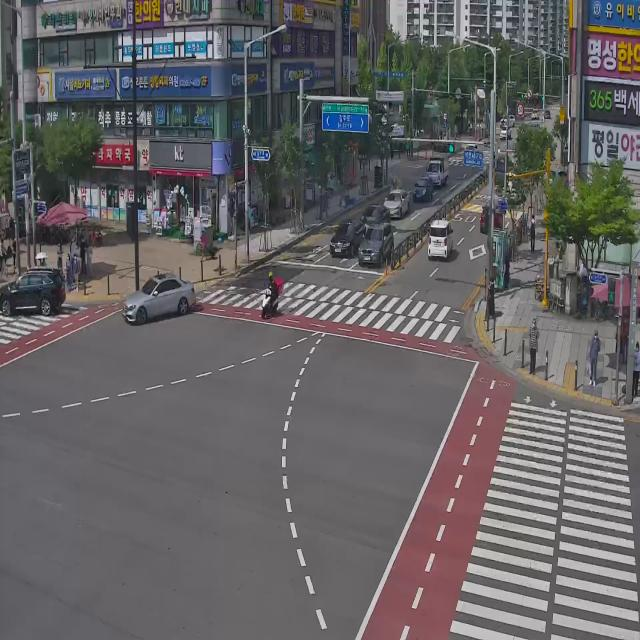Car: (122, 274, 195, 326), (0, 268, 66, 316), (358, 222, 394, 267), (330, 219, 366, 258), (428, 215, 455, 262), (380, 189, 411, 220), (362, 197, 392, 229), (413, 176, 433, 202)
Motorcycle: (258, 271, 288, 319)
Truck: (429, 153, 455, 193)
